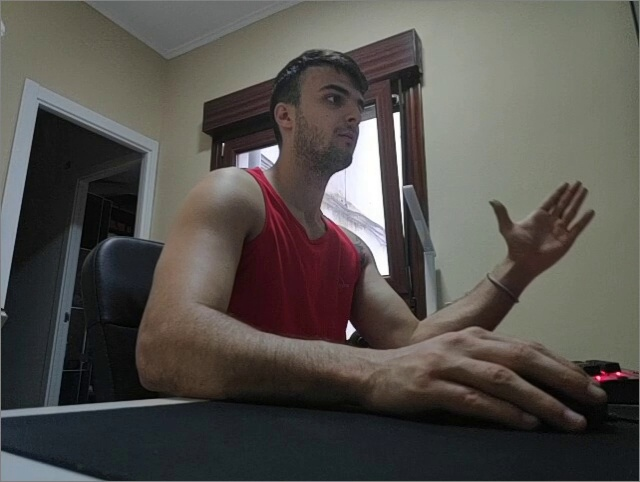Palm: (491, 171, 598, 271)
